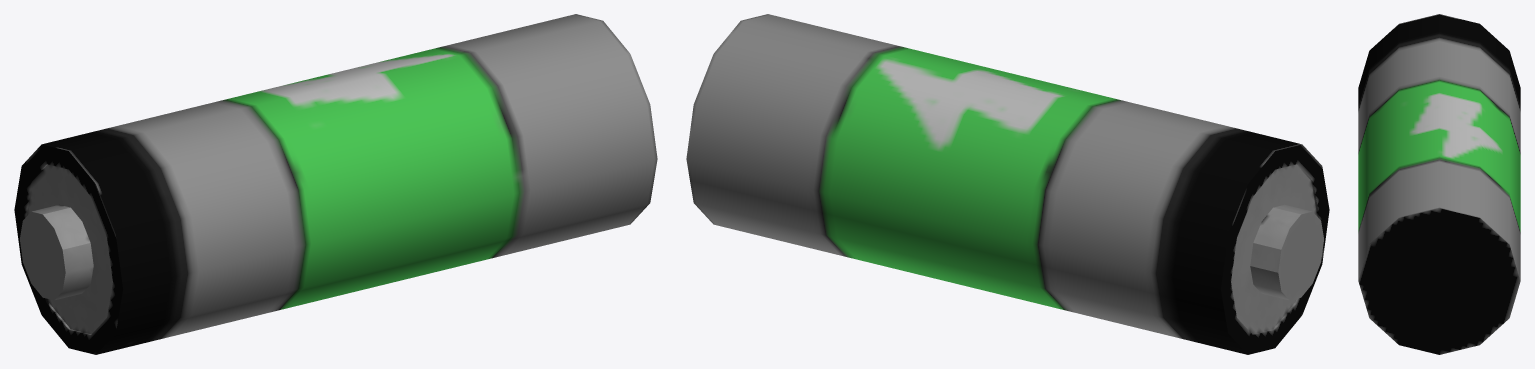
File: Batareika.glb
3 renders of one model, left to right at view 1: azimuth 30°, elevation 25°; view 2: azimuth 150°, elevation 25°; view 3: azimuth 270°, elevation 25°, orthographic. The views are drawn at different scales.
Visible parts, largest first — view 1: Batareika; view 2: Batareika; view 3: Batareika.
Part boxes in pixels (left/top/right/bottom): Batareika: left=14, top=14, right=657, bottom=354; Batareika: left=686, top=14, right=1329, bottom=354; Batareika: left=1358, top=14, right=1520, bottom=354.
Bounding box in the file's own units: 2.1 × 0.7052 × 0.7052.
1 material, 1 textured.
